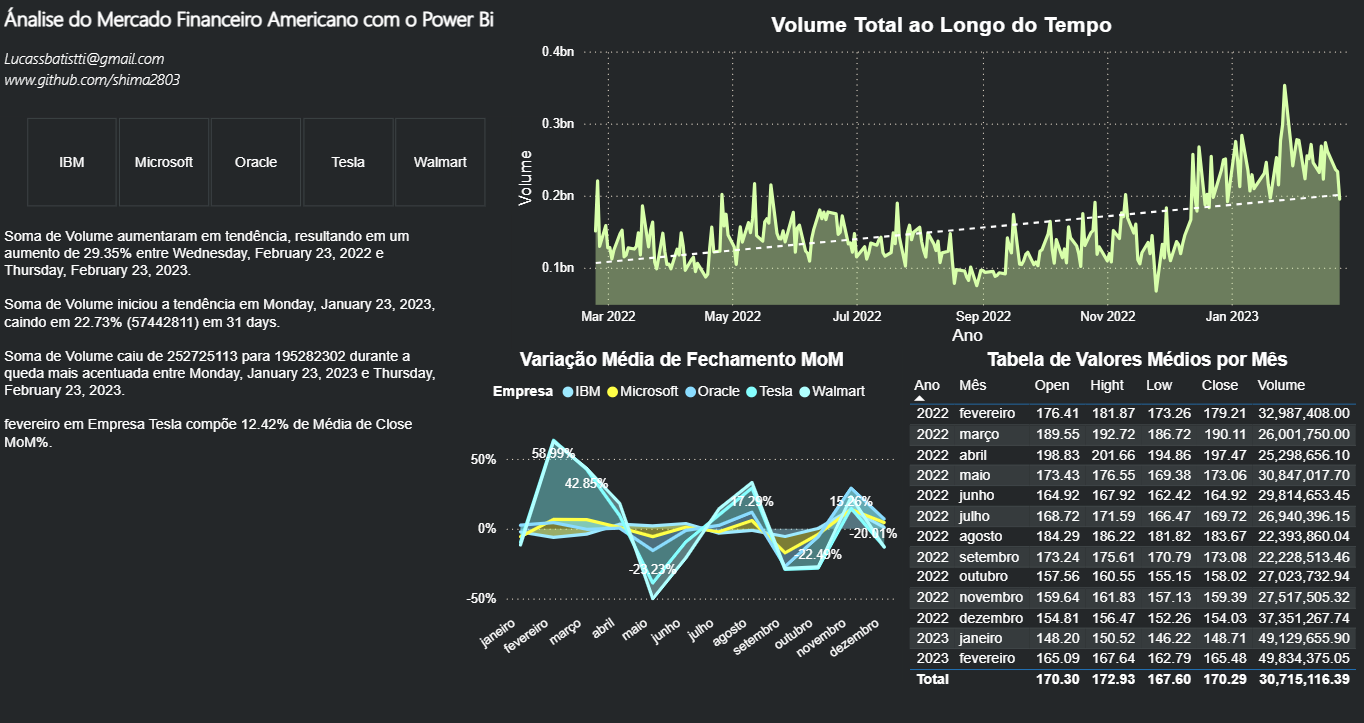

This screenshot's page, from the dashboard's own definition file:
{"tool":"powerbi","page":{"name":"Overview","canvas":[1280,720],"ordinal":0},"visuals":[{"type":"areaChart","title":"Volume Total ao Longo do Tempo ","fields":{"Category":["StockMarket.Data.Variation.Hierarquia de datas.Ano","StockMarket.Data.Variation.Hierarquia de datas.Trimestre","StockMarket.Data.Variation.Hierarquia de datas.Mês","StockMarket.Data.Variation.Hierarquia de datas.Dia"],"Y":["Sum(StockMarket.Volume)"]},"box":[477.6,12.6,802.6,314.2],"z":0},{"type":"tableEx","title":"Tabela de Valores Médios por Mês","fields":{"Values":["StockMarket.Data.Variation.Hierarquia de datas.Ano","StockMarket.Data.Variation.Hierarquia de datas.Mês","Avg(StockMarket.Open)","Avg(StockMarket.High)","Avg(StockMarket.Low)","Avg(StockMarket.Close)","Avg(StockMarket.Volume)"]},"box":[843,326.8,437.2,393.2],"z":1},{"type":"slicer","fields":{"Values":["StockMarket.Empresa"]},"box":[0,103.2,477.6,97],"z":2},{"type":"stackedAreaChart","title":"Variação Média de Fechamento MoM","fields":{"Category":["StockMarket.Data.Variation.Hierarquia de datas.Mês"],"Series":["StockMarket.Empresa"],"Y":["StockMarket.Média de Close MoM%"]},"box":[430,326.8,413,309.7],"z":3},{"type":"textbox","box":[0,209.2,421,510.8],"z":4},{"type":"textbox","box":[0,0,506.3,109.5],"z":5}]}

Visuals, with their boxes on the page's 1280x720 design canvas (x1, y1, x2, y2). These are canvas units, not pixel positions in the 1364x723 screenshot, which may show the page scaled, cropped or inside an application window:
"Volume Total ao Longo do Tempo " areaChart: <bbox>478, 13, 1280, 327</bbox>
"Tabela de Valores Médios por Mês" tableEx: <bbox>843, 327, 1280, 720</bbox>
slicer - StockMarket.Empresa: <bbox>0, 103, 478, 200</bbox>
"Variação Média de Fechamento MoM" stackedAreaChart: <bbox>430, 327, 843, 636</bbox>
textbox: <bbox>0, 209, 421, 720</bbox>
textbox: <bbox>0, 0, 506, 110</bbox>
